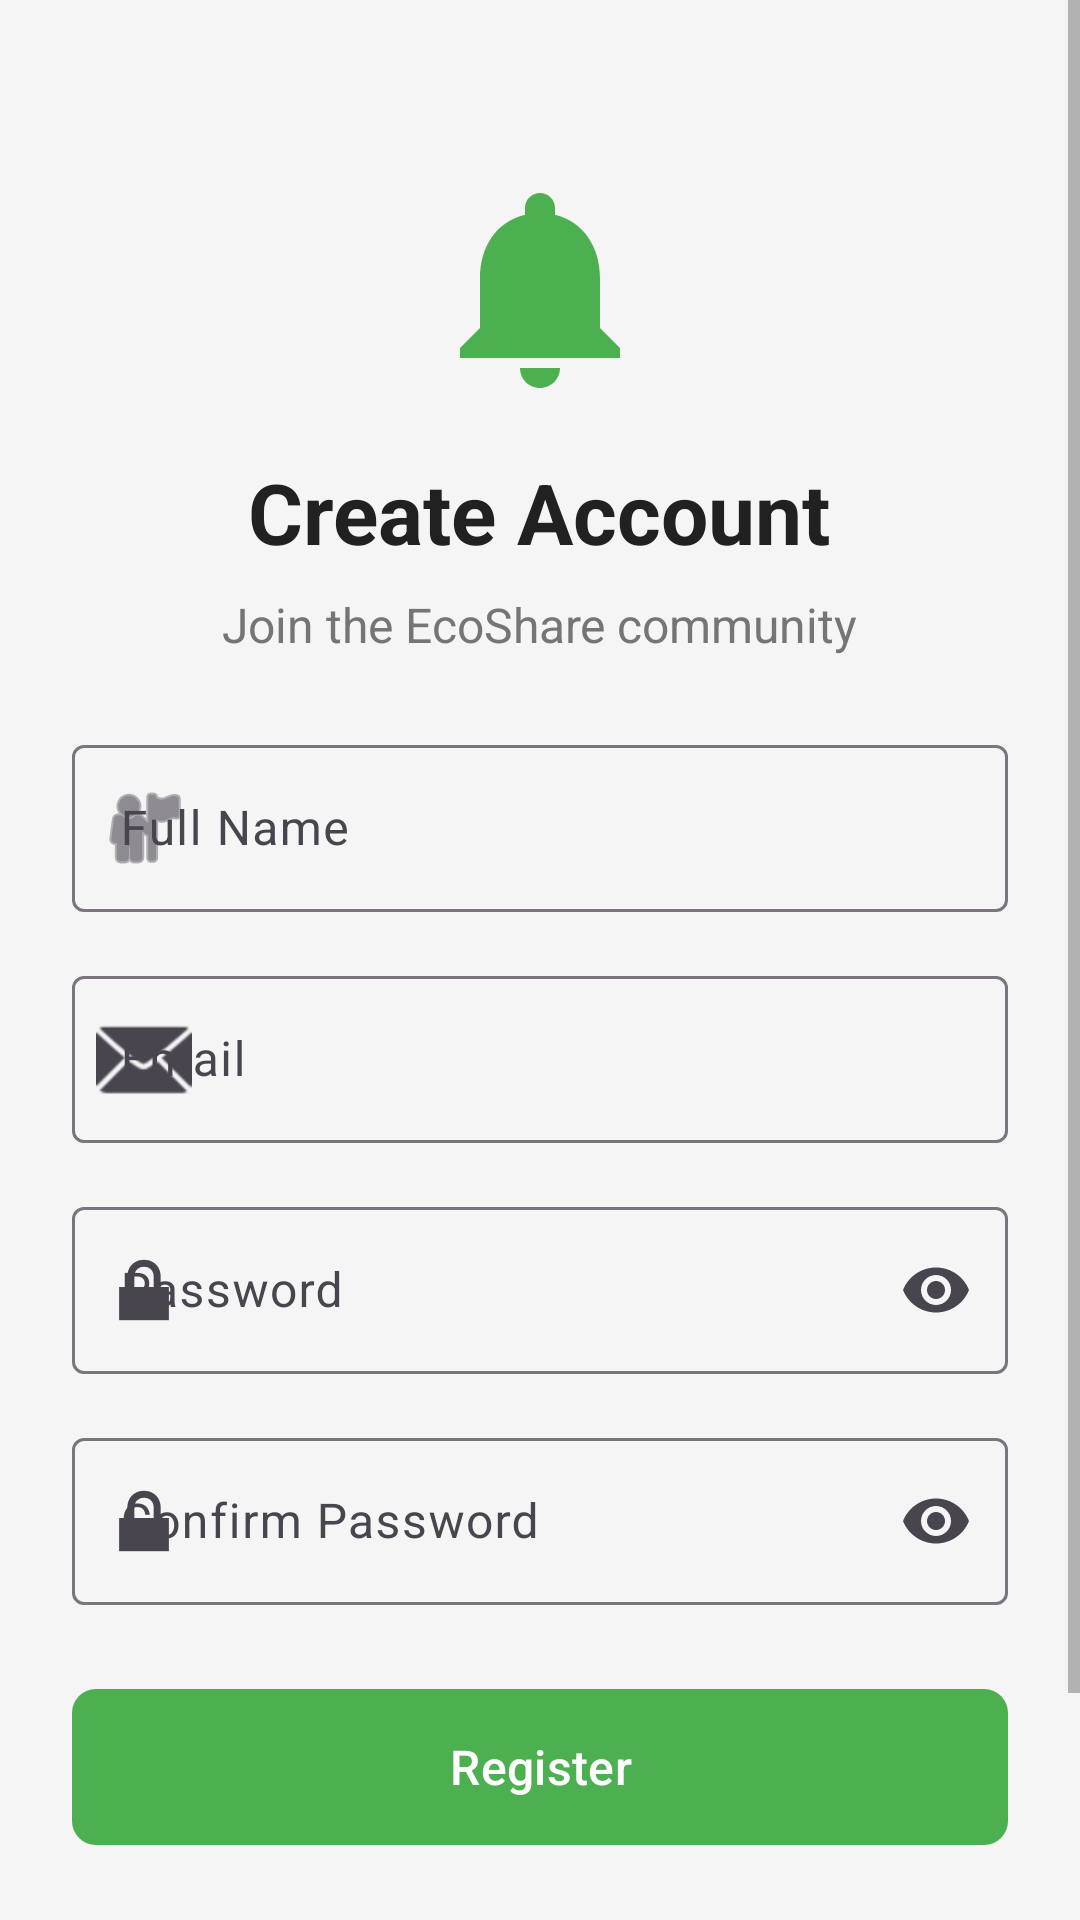

Screen size 1080 × 1920. Icon name, then its box in pixels as region(x1, y1, x2, y2):
notification: region(460, 193, 620, 388)
